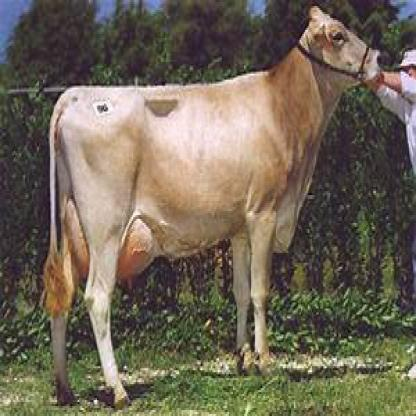cow: (41, 4, 387, 402)
